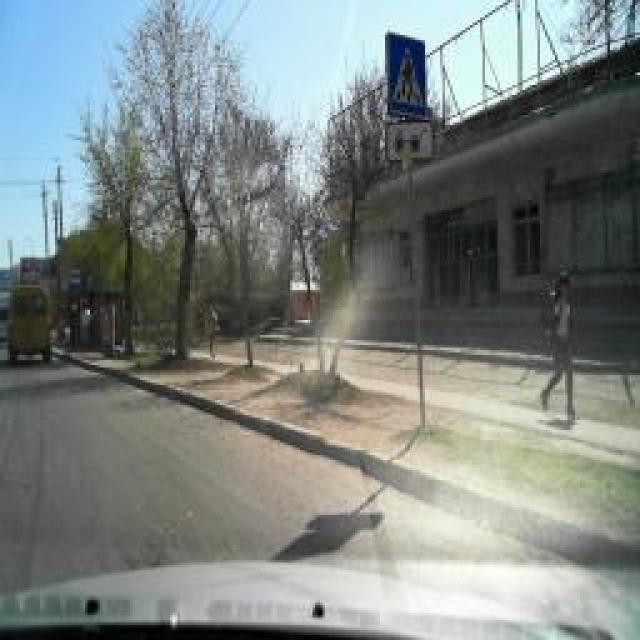sign: (385, 32, 430, 118)
